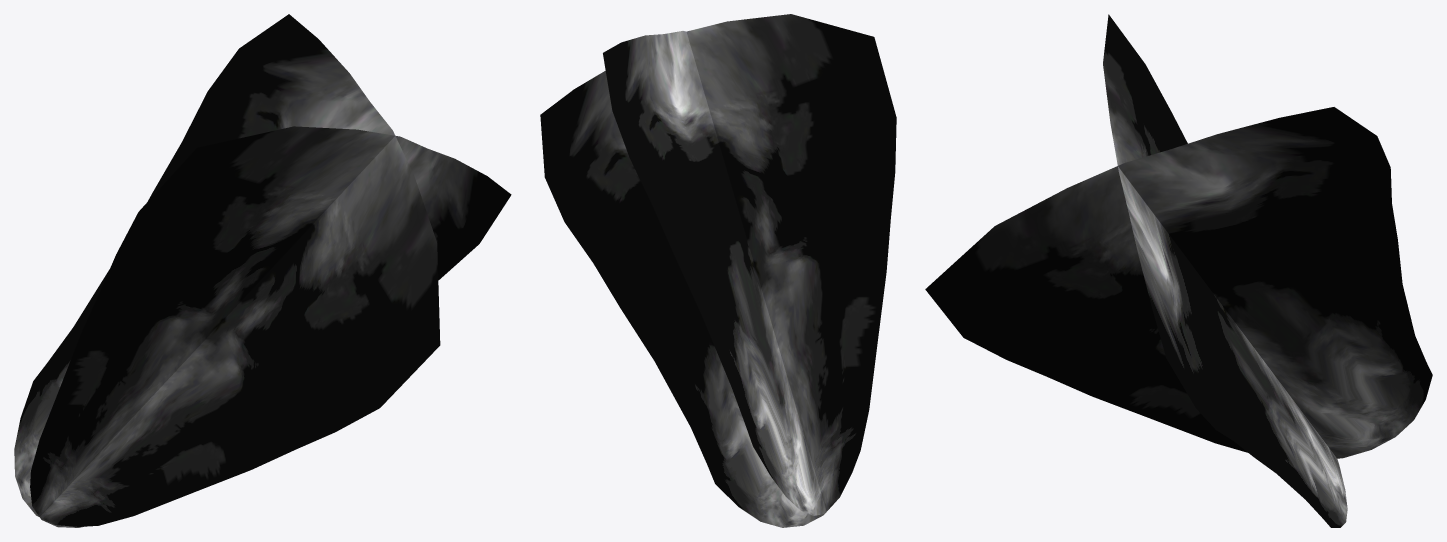
The model's file is effect_yanwu_mo (1) #283021.fbx.
3 views of the same model, side by side, from view 1: azimuth 30°, elevation 25°; view 2: azimuth 150°, elevation 25°; view 3: azimuth 270°, elevation 25° (orthographic). The views are drawn at different scales.
Visible parts, largest first — view 1: effect_yanwu_mo (1); view 2: effect_yanwu_mo (1); view 3: effect_yanwu_mo (1).
Part boxes in pixels (x1,y1,x2,y2): effect_yanwu_mo (1): [14, 14, 511, 527]; effect_yanwu_mo (1): [540, 14, 896, 527]; effect_yanwu_mo (1): [925, 14, 1432, 527].
Size of the model in its own units: 1.28 by 1.37 by 1.24.
